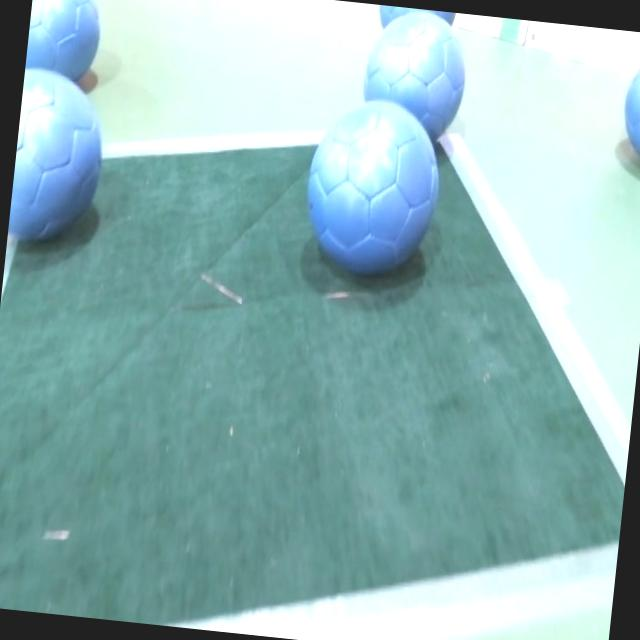blue_ball: (300, 92, 448, 288), (6, 70, 112, 254), (360, 8, 471, 144), (23, 0, 106, 86), (617, 37, 640, 171), (376, 5, 458, 42)
